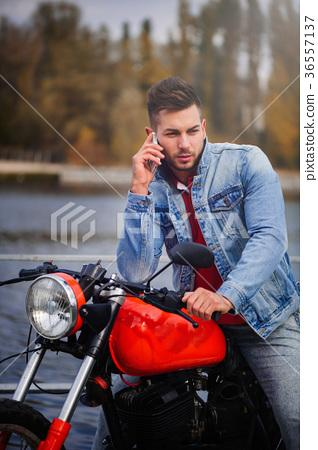talk: (129, 117, 204, 187)
